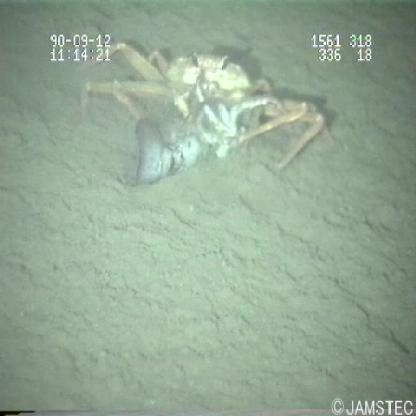Bio: (76, 39, 342, 187)
